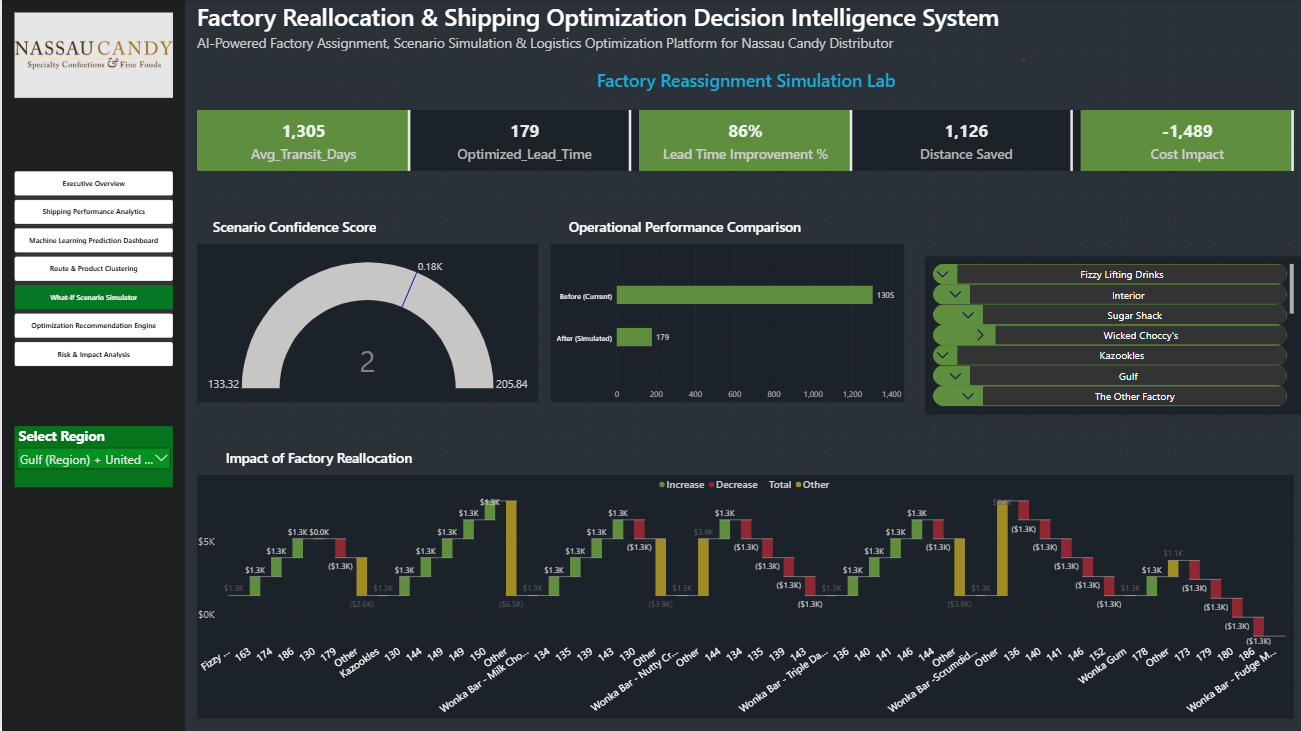

This screenshot's page, from the dashboard's own definition file:
{"tool":"powerbi","page":{"name":"What-If Scenario Simulator","canvas":[2560,1440],"ordinal":4},"visuals":[{"type":"shape","box":[0,0,360,1440],"z":0},{"type":"textbox","title":"Factory Reallocation & Shipping Optimization Decision Intelligence System","box":[384,0,1632,120],"z":1000},{"type":"cardVisual","fields":{"Data":["DAX Measures.Avg Transit Days","DAX Measures.Optimised_Lead_Time","US Zip Code.Lead Time Improvement %","Scenario.Distance Saved","Scenario.Cost Impact"]},"box":[384,216,2160,120],"z":2000},{"type":"waterfallChart","fields":{"Breakdown":["Optimized Factory Coordinates.Optimized Lead Time"],"Category":["Optimized Factory Coordinates.Product Name","Nassau Candy Distributor.Transit Days"],"Y":["Scenario.Cost Impact"]},"box":[384,936,2160,480],"z":3000},{"type":"slicer","fields":{"Values":["Nassau Candy Distributor.Region","Nassau Candy Distributor.Country","Nassau Candy Distributor.State/Province","Nassau Candy Distributor.City"]},"box":[24,840,312,120],"z":4000},{"type":"image","box":[24,24,312,168],"z":5000},{"type":"cardVisual","fields":{"Data":["Select Measure.Fifth Page"]},"box":[1008,120,912,72],"z":6000},{"type":"pageNavigator","box":[24,336,312,384],"z":7000},{"type":"cardVisual","fields":{"Data":["Select Measure.Operational_Bar_Chart"]},"box":[1080,408,528,72],"z":8000},{"type":"listSlicer","fields":{"Values":["Product Factory Map.Product Name","Product Factory Map.Region","Product Factory Map.Factory","Optimised Factory Coordinates.Optimized Factory","Product Factory Map.Ship Mode"]},"box":[1800,480,744,312],"z":9000},{"type":"clusteredBarChart","fields":{"Category":["Scenario.Scenario"],"Y":["Scenario.Lead Time Value"]},"box":[1080,480,696,312],"z":10000},{"type":"gauge","fields":{"MaxValue":["Scenario.Lead_Time_Max"],"MinValue":["Scenario.Lead_Time_Min"],"TargetValue":["Scenario.Lead_Time_Target"],"Y":["CountNonNull(Scenario.Scenario)"]},"box":[384,480,672,312],"z":11000},{"type":"cardVisual","fields":{"Data":["Select Measure.Guage"]},"box":[384,408,384,72],"z":12000},{"type":"cardVisual","fields":{"Data":["Select Measure.Factory_Reloc_Impct"]},"box":[384,864,480,72],"z":13000}]}

Visuals, with their boxes on the page's 2560x1440 design canvas (x1, y1, x2, y2). These are canvas units, not pixel positions in the 1301x731 screenshot, which may show the page scaled, cropped or inside an application window:
shape: {"x1": 0, "y1": 0, "x2": 360, "y2": 1440}
"Factory Reallocation & Shipping Optimization Decision Intelligence System" textbox: {"x1": 384, "y1": 0, "x2": 2016, "y2": 120}
cardVisual - DAX Measures.Avg Transit Days x DAX Measures.Optimised_Lead_Time: {"x1": 384, "y1": 216, "x2": 2544, "y2": 336}
waterfallChart - Optimized Factory Coordinates.Optimized Lead Time x Optimized Factory Coordinates.Product Name: {"x1": 384, "y1": 936, "x2": 2544, "y2": 1416}
slicer - Nassau Candy Distributor.Region x Nassau Candy Distributor.Country: {"x1": 24, "y1": 840, "x2": 336, "y2": 960}
image: {"x1": 24, "y1": 24, "x2": 336, "y2": 192}
cardVisual - Select Measure.Fifth Page: {"x1": 1008, "y1": 120, "x2": 1920, "y2": 192}
pageNavigator: {"x1": 24, "y1": 336, "x2": 336, "y2": 720}
cardVisual - Select Measure.Operational_Bar_Chart: {"x1": 1080, "y1": 408, "x2": 1608, "y2": 480}
listSlicer - Product Factory Map.Product Name x Product Factory Map.Region: {"x1": 1800, "y1": 480, "x2": 2544, "y2": 792}
clusteredBarChart - Scenario.Scenario x Scenario.Lead Time Value: {"x1": 1080, "y1": 480, "x2": 1776, "y2": 792}
gauge - Scenario.Lead_Time_Max x Scenario.Lead_Time_Min: {"x1": 384, "y1": 480, "x2": 1056, "y2": 792}
cardVisual - Select Measure.Guage: {"x1": 384, "y1": 408, "x2": 768, "y2": 480}
cardVisual - Select Measure.Factory_Reloc_Impct: {"x1": 384, "y1": 864, "x2": 864, "y2": 936}
